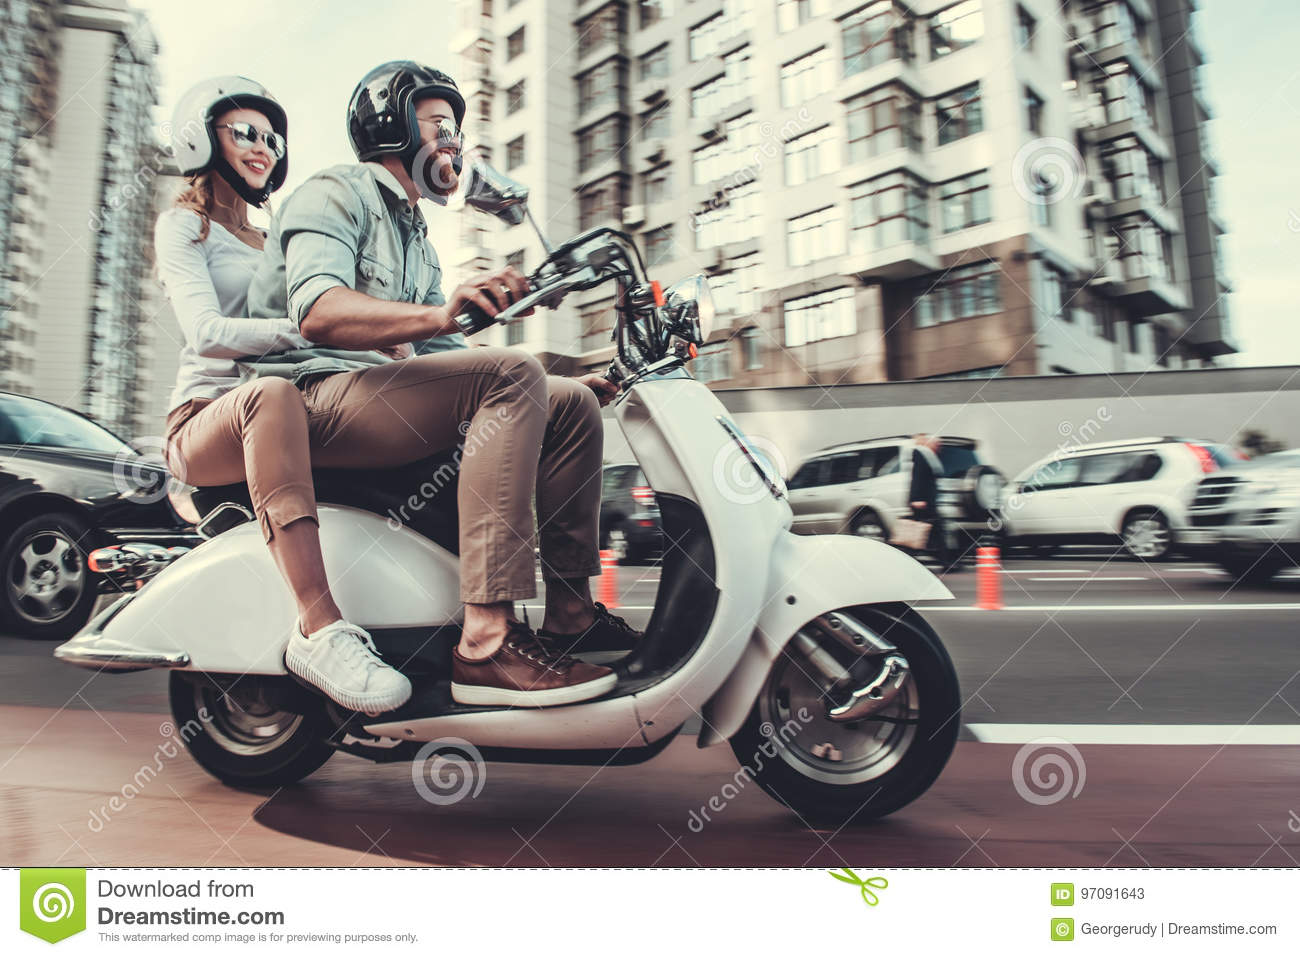helmet: (160, 73, 292, 177), (349, 69, 458, 163)
